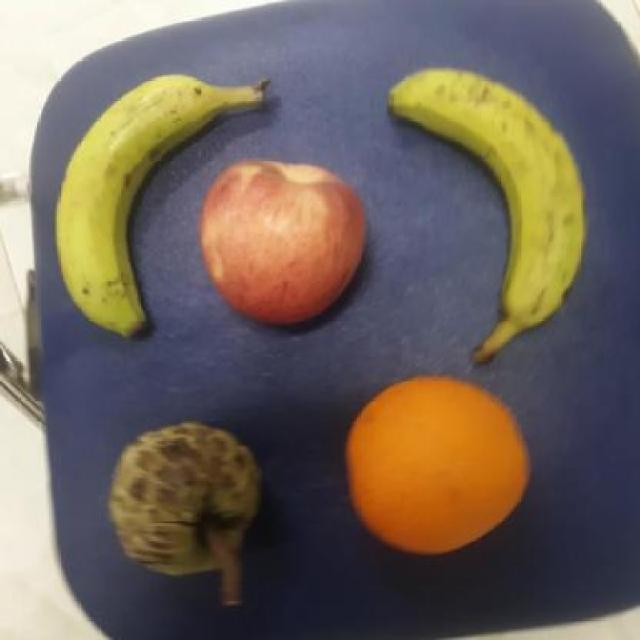apple: (192, 154, 378, 332)
banana: (383, 55, 591, 320), (49, 68, 226, 342)
oren: (332, 374, 532, 558)
sugar apple: (102, 422, 266, 576)
